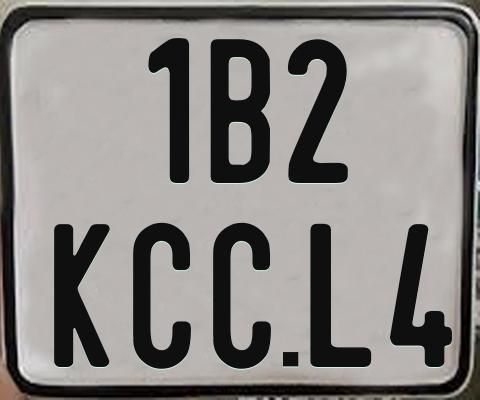1: (146, 35, 193, 185)
2: (287, 39, 349, 189)
4: (389, 224, 452, 368)
B: (208, 38, 274, 187)
C: (131, 222, 194, 369), (210, 223, 271, 371)
K: (53, 224, 109, 369)
L: (310, 223, 373, 371)
